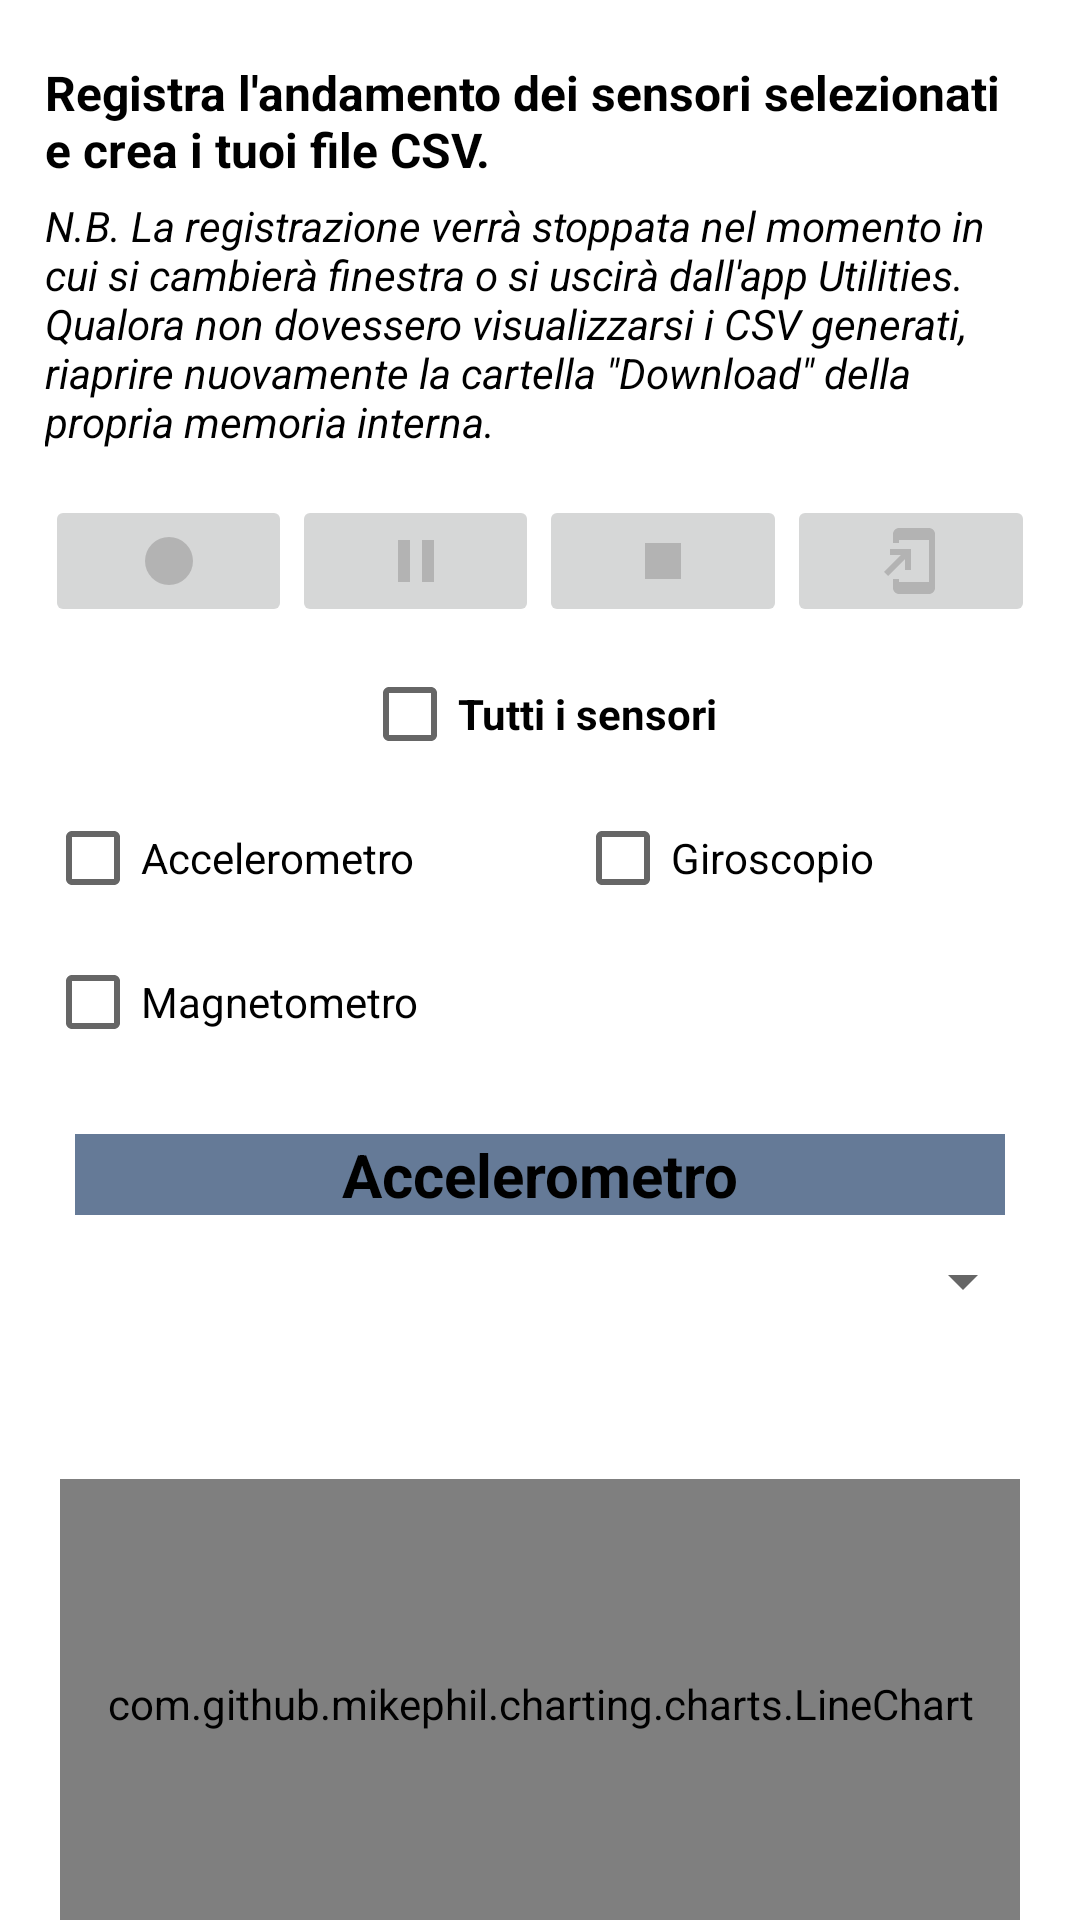

Locate icon controls on the screen. Image size 1080 × 1920, boxes as (x1, y1, x2, y2).
pause: (304, 513, 527, 609)
rec: (57, 513, 280, 609)
